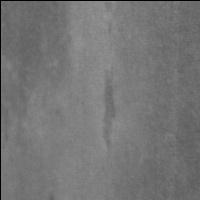inclusion: (2, 2, 71, 123), (99, 64, 122, 155)
